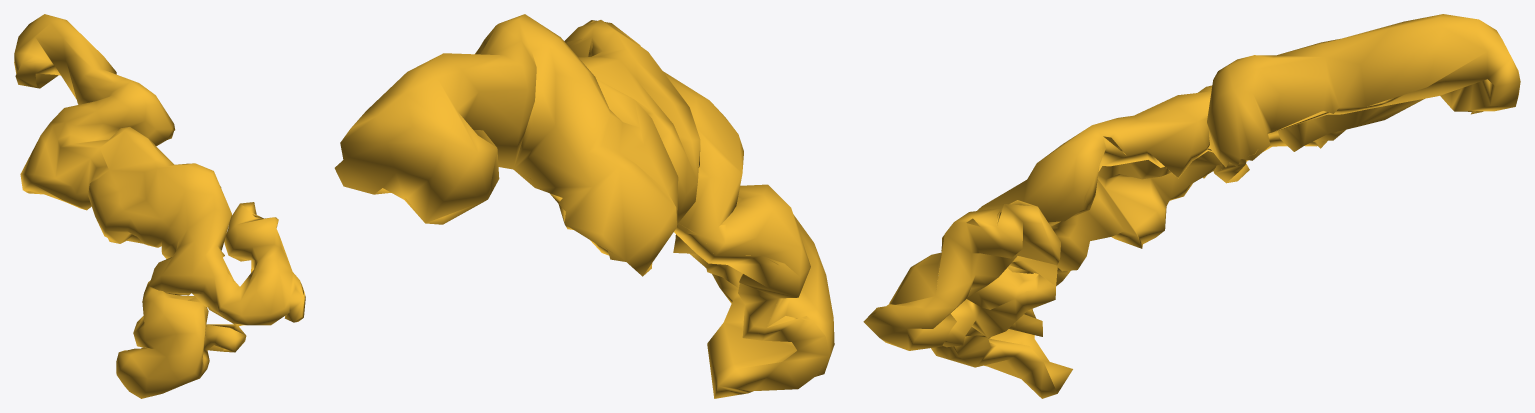
Rendered from nervoso-middle-frontal-gyrus-r.glb.
The picture shows the model from 3 angles, left to right: view 1: azimuth 30°, elevation 25°; view 2: azimuth 150°, elevation 25°; view 3: azimuth 270°, elevation 25°; orthographic projection. The views are drawn at different scales.
Visible parts, largest first — view 1: Middle frontal gyrus.r; view 2: Middle frontal gyrus.r; view 3: Middle frontal gyrus.r.
Part boxes in pixels (x1=…): Middle frontal gyrus.r: x1=14, y1=14, x2=305, y2=398; Middle frontal gyrus.r: x1=334, y1=14, x2=834, y2=398; Middle frontal gyrus.r: x1=863, y1=14, x2=1520, y2=398.
Bounding box in the file's own units: 0.0393 × 0.0615 × 0.091.
